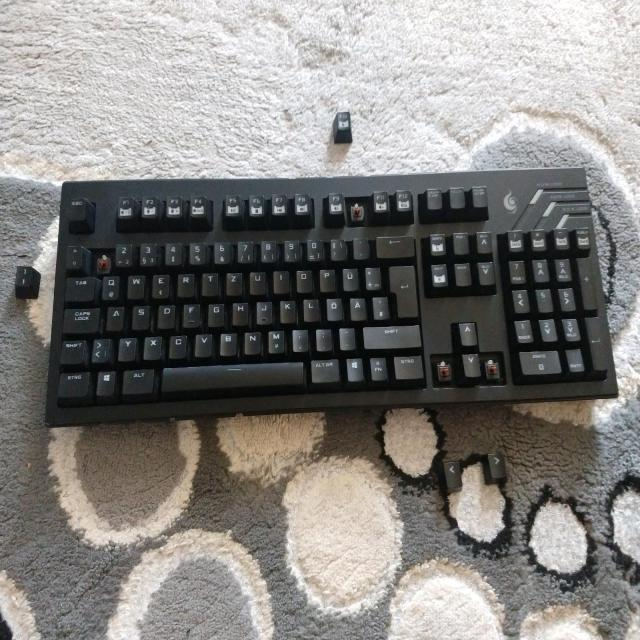0: (306, 236, 323, 261)
1: (14, 265, 35, 291)
2: (114, 241, 132, 267)
3: (138, 240, 157, 266)
4: (164, 240, 181, 265)
5: (188, 239, 206, 264)
6: (213, 239, 230, 263)
7: (236, 239, 254, 263)
8: (260, 237, 277, 262)
9: (283, 237, 300, 261)
a: (105, 304, 124, 330)
accent: (352, 235, 369, 258)
ae: (348, 295, 366, 319)
alt-left: (120, 367, 154, 394)
altgr-right: (309, 356, 340, 382)
b: (218, 330, 237, 354)
c: (168, 333, 187, 358)
caret: (65, 243, 82, 269)
comma: (291, 327, 308, 351)
d: (156, 302, 175, 328)
del: (374, 234, 414, 257)
e: (151, 271, 169, 298)
enter: (387, 263, 418, 318)
f: (182, 301, 200, 326)
g: (206, 301, 224, 326)
h: (231, 299, 248, 324)
hash: (371, 294, 389, 319)
i: (272, 268, 289, 292)
j: (255, 298, 272, 323)
k: (279, 298, 296, 322)
keyboard: (43, 164, 620, 429)
l: (302, 296, 319, 321)
less: (90, 336, 109, 362)
m: (267, 328, 285, 353)
minus: (338, 326, 355, 350)
n: (243, 329, 261, 354)
o: (295, 267, 312, 291)
oe: (326, 296, 343, 320)
p: (318, 267, 335, 290)
plus: (364, 264, 381, 290)
point: (315, 326, 332, 350)
q: (101, 273, 120, 300)
r: (176, 270, 195, 296)
s: (130, 302, 149, 329)
shift-left: (58, 338, 84, 363)
shift-lock: (62, 305, 99, 332)
shift-right: (361, 323, 420, 347)
space: (160, 360, 305, 392)
ss: (329, 237, 346, 259)
strg-left: (55, 369, 90, 396)
strg-right: (392, 353, 424, 379)
t: (200, 270, 218, 294)
tab: (64, 274, 95, 300)
u: (248, 269, 266, 293)
ue: (341, 266, 358, 290)
v: (194, 331, 212, 355)
w: (126, 272, 145, 298)
x: (143, 334, 162, 359)
y: (117, 335, 136, 360)
z: (225, 270, 242, 294)
